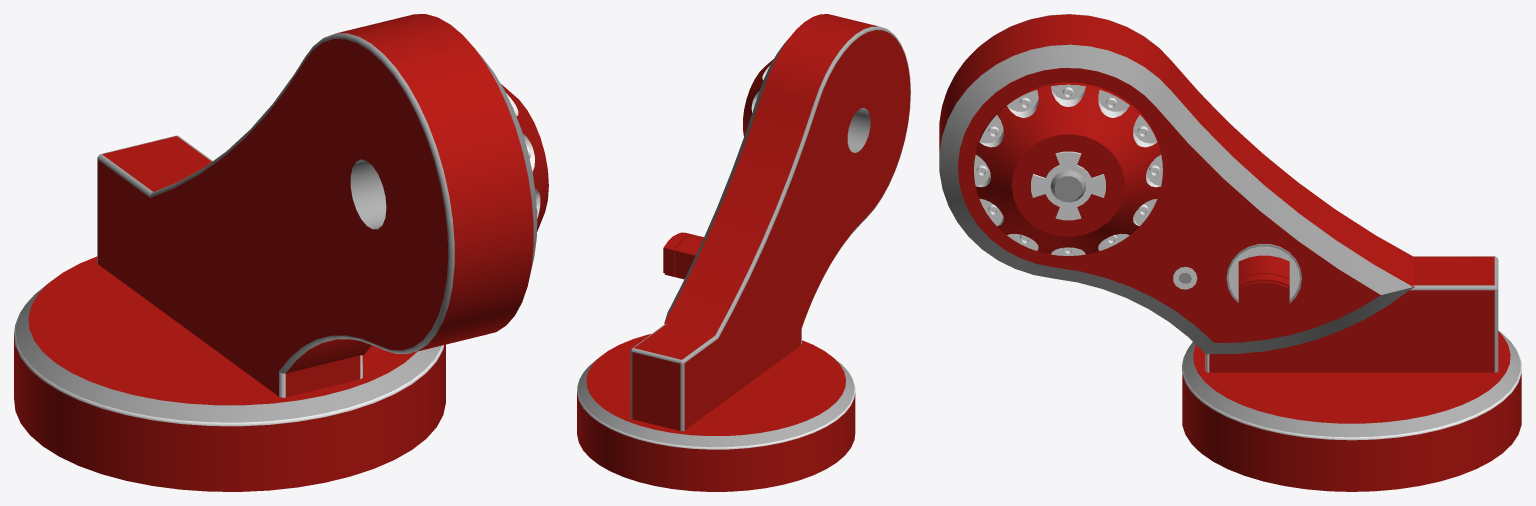
3 views of the same model, side by side, from view 1: azimuth 30°, elevation 25°; view 2: azimuth 150°, elevation 25°; view 3: azimuth 270°, elevation 25° (orthographic). The views are drawn at different scales.
Parts seen in each view (by area): view 1: Solid1; view 2: Solid1; view 3: Solid1.
Part boxes in pixels (x1=…): Solid1: x1=14, y1=14, x2=548, y2=491; Solid1: x1=577, y1=14, x2=910, y2=491; Solid1: x1=939, y1=14, x2=1521, y2=491.
Bounding box in the file's own units: 0.18 × 0.2285 × 0.3083.
